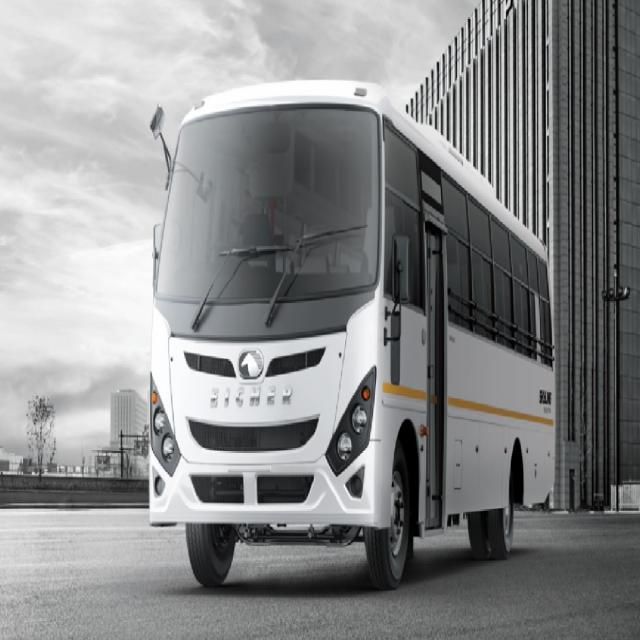bus: (150, 80, 555, 586)
